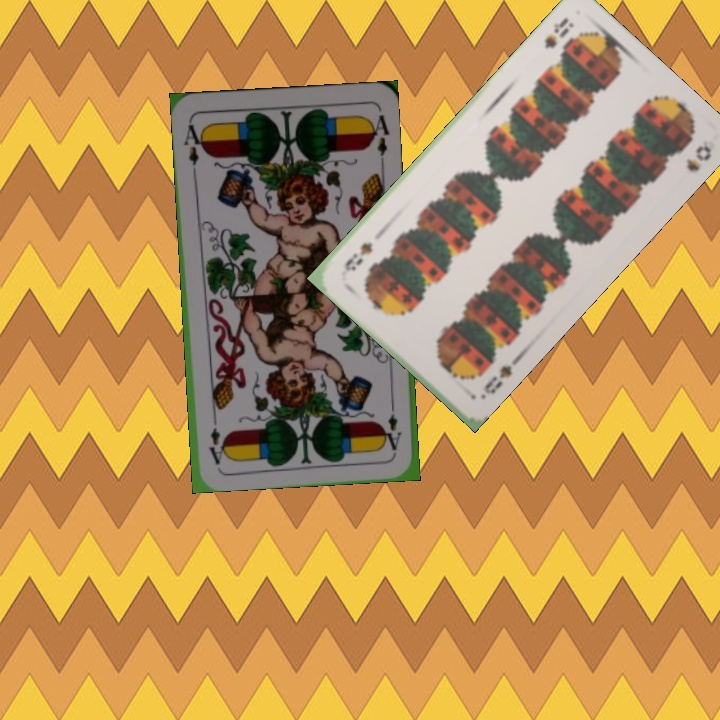EA: (180, 117, 207, 176), (382, 410, 404, 453)
S8: (540, 13, 577, 52), (480, 360, 515, 397)
